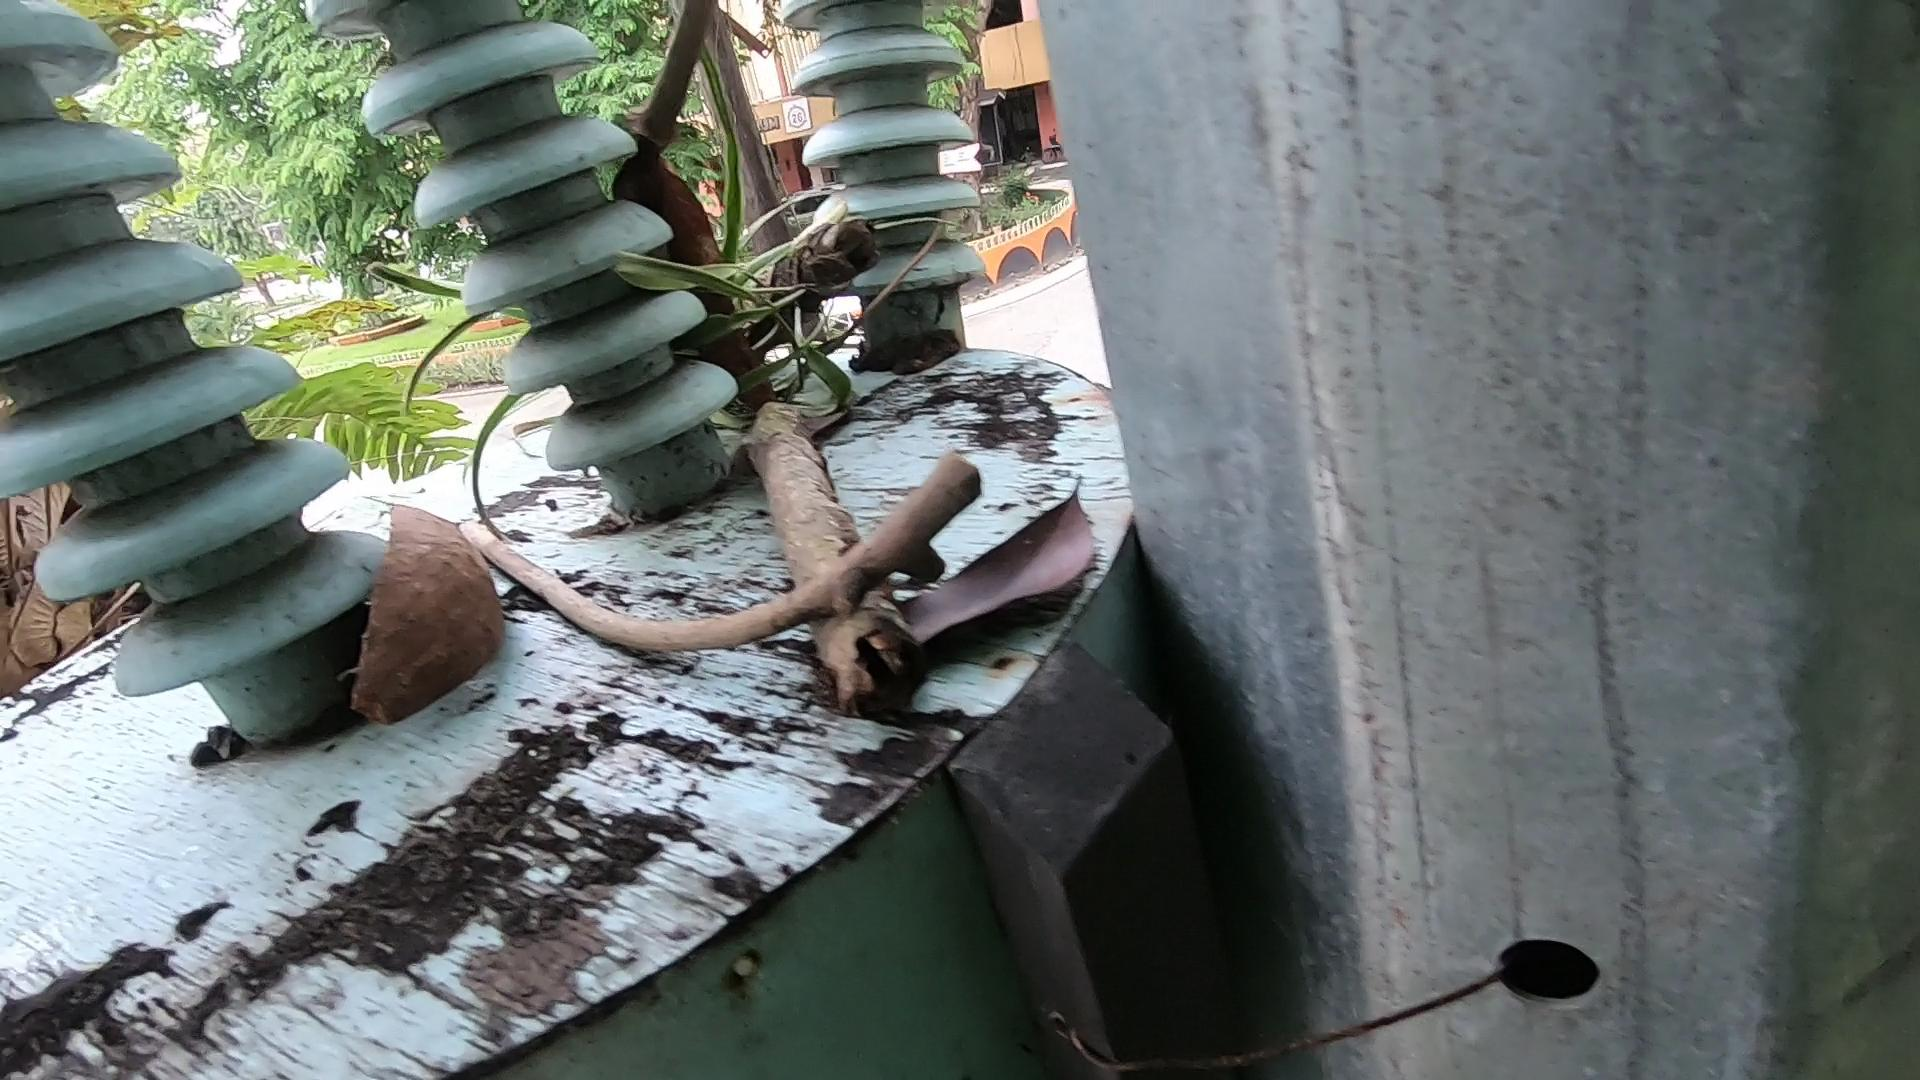branch with leaves: (740, 80, 920, 762)
leaf: (893, 440, 1143, 655)
mahogany fruit: (316, 423, 539, 804), (587, 117, 791, 467)
tree branch: (397, 473, 1007, 694), (595, 1, 717, 207)
